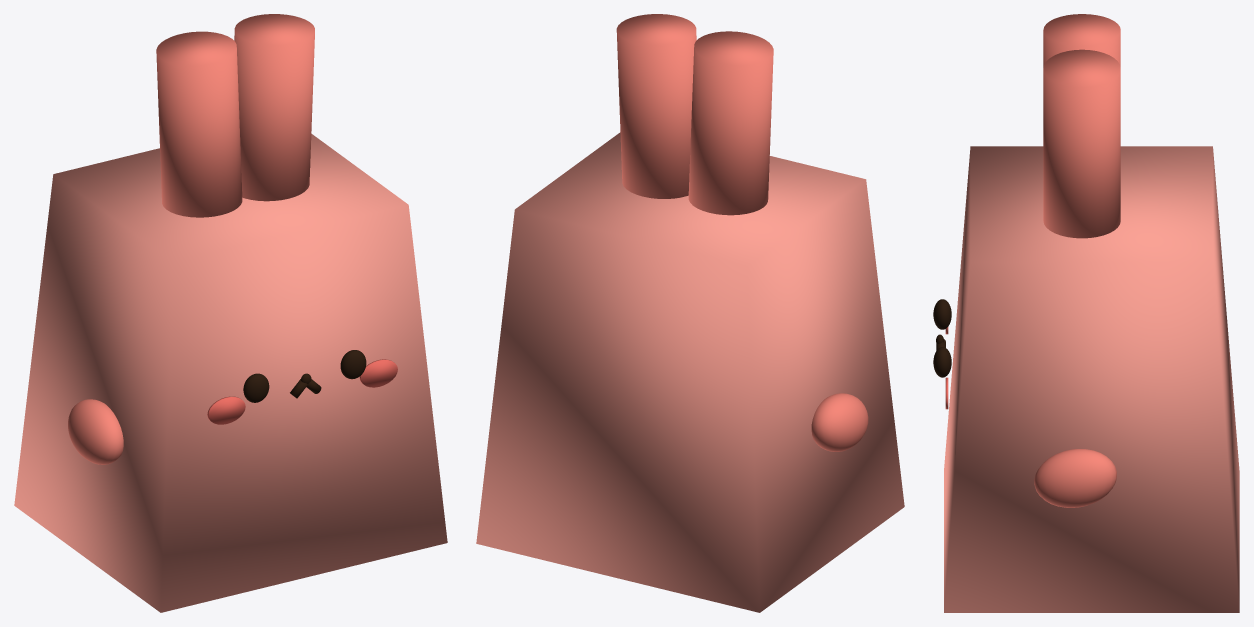
The model's file is peach-mochi-bunny.glb.
3 renders of one model, left to right at view 1: azimuth 30°, elevation 25°; view 2: azimuth 150°, elevation 25°; view 3: azimuth 270°, elevation 25°, orthographic. The views are drawn at different scales.
Visible parts, largest first — view 1: Body, Ear_L, Ear_R, Arm_L, Blush_L, Blush_R, Eye_L, Eye_R; view 2: Body, Ear_L, Ear_R, Arm_L; view 3: Body, Ear_R, Arm_R, Ear_L, Eye_L, Eye_R.
Part boxes in pixels (box(x1,y1,x2,y2)): Body: box(14, 133, 447, 612); Ear_L: box(156, 31, 242, 217); Ear_R: box(234, 14, 314, 201); Arm_L: box(68, 399, 123, 464); Blush_L: box(207, 396, 245, 424); Blush_R: box(359, 359, 397, 387); Eye_L: box(243, 373, 269, 402); Eye_R: box(340, 350, 366, 379); Body: box(476, 132, 904, 612); Ear_L: box(688, 31, 773, 215); Ear_R: box(616, 14, 696, 198); Arm_L: box(811, 393, 868, 451); Body: box(944, 146, 1239, 612); Ear_R: box(1043, 49, 1120, 238); Arm_R: box(1034, 449, 1116, 507); Ear_L: box(1043, 14, 1120, 67); Eye_L: box(933, 299, 951, 329); Eye_R: box(933, 347, 951, 377).
Size of what is drawn, in the model's own units: 0.5915 by 0.9303 by 0.4763.
